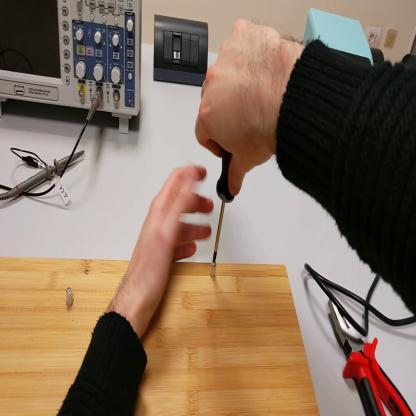hand: (197, 22, 291, 199), (121, 165, 213, 315)
oscilloscope: (2, 2, 145, 134)
oscilloscope probe tip: (2, 151, 86, 201)
pliers: (329, 299, 415, 416)
screwdriver-: (212, 150, 234, 261)
welder station: (301, 10, 374, 65)
working area: (2, 256, 320, 415)
